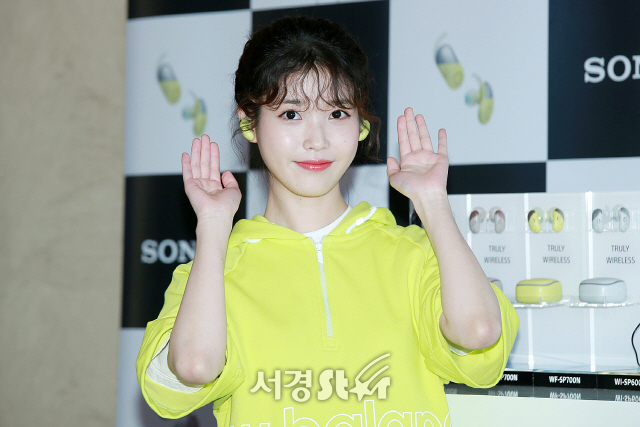earphone: (238, 104, 259, 143)
